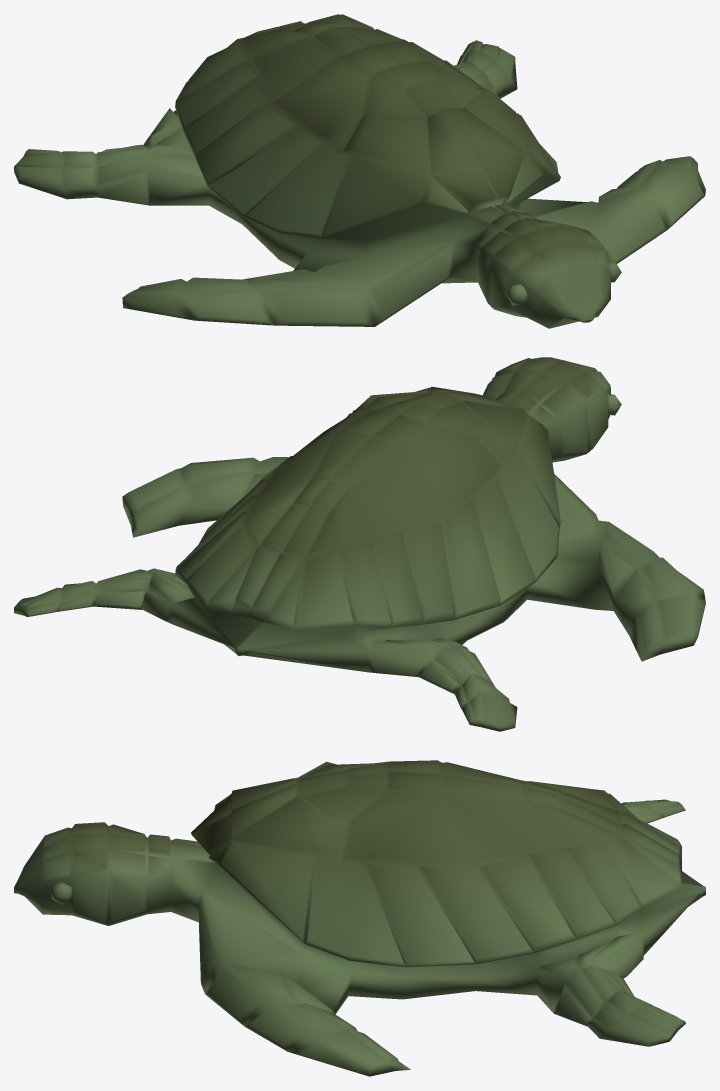
File: turtle.glb
The picture shows the model from 3 angles, top to bottom: view 1: azimuth 30°, elevation 25°; view 2: azimuth 150°, elevation 25°; view 3: azimuth 270°, elevation 25°; orthographic projection.
Parts seen in each view (by area): view 1: turtle; view 2: turtle; view 3: turtle.
Part boxes in pixels (x1,y1,x2,y2): turtle: (14,14,705,328); turtle: (14,357,705,731); turtle: (14,760,705,1076).
Size of the model in its own units: 0.9897 by 0.2983 by 1.05.
